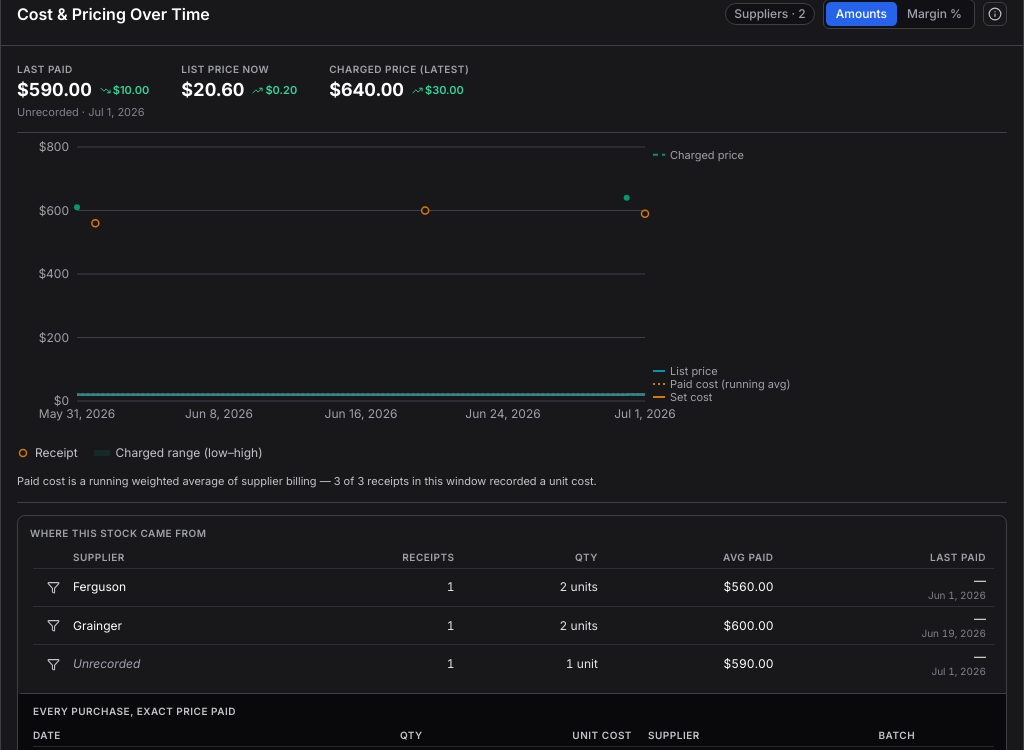
Test: CostPriceTrendChart › supplier origin › clears the filter on a second click of the same vendor
Click the button named "Show only Ferguson" at point(53, 588), box x1=41 y1=576 x2=65 y2=600
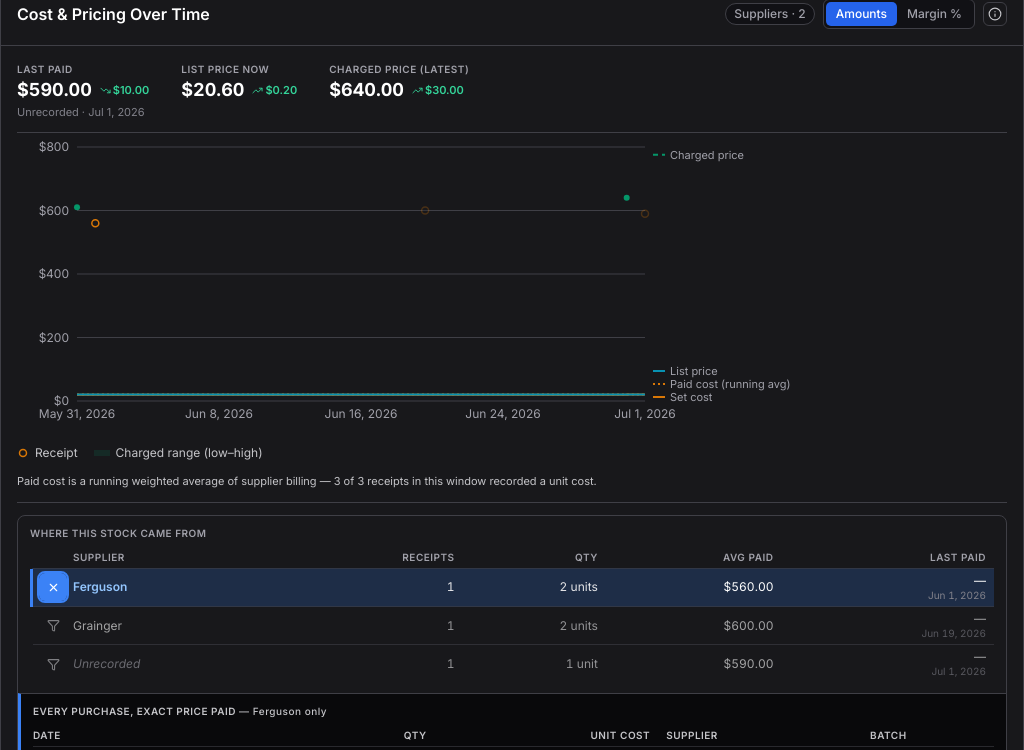
# Clicking the same vendor's (now active) filter button again toggles it off.
Click the button named "Clear filter — showing only Ferguson" at point(53, 588), box x1=41 y1=576 x2=65 y2=600
(page scrolled)
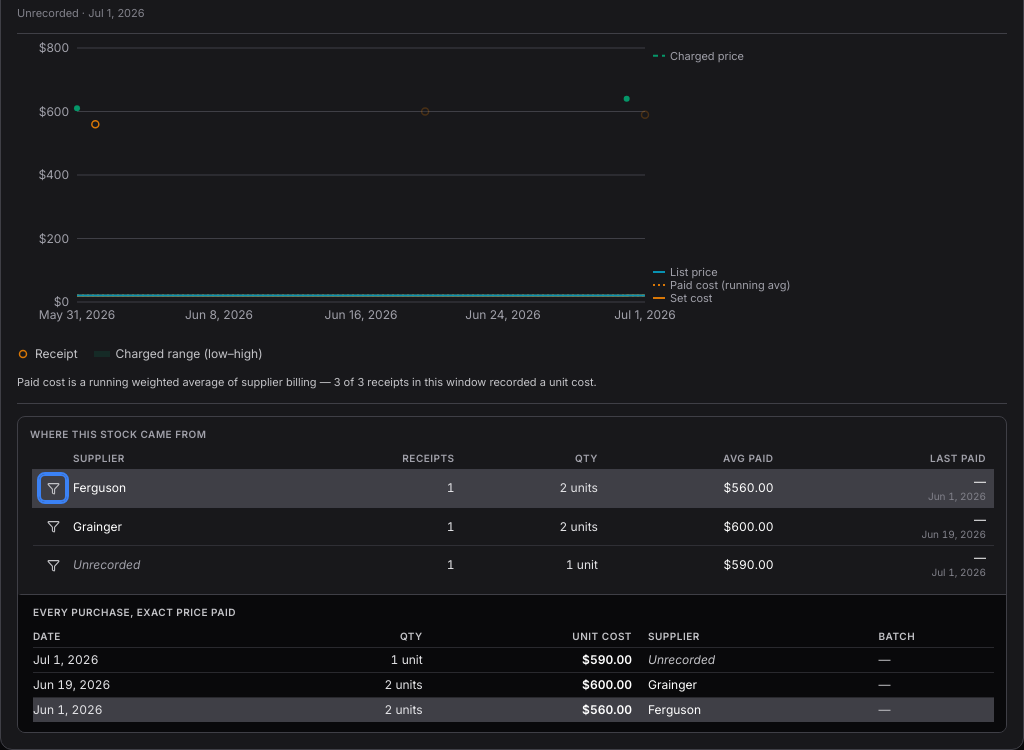
Expected: the text "Grainger" below "Batch" is shown, x1=648 y1=677 x2=697 y2=692
